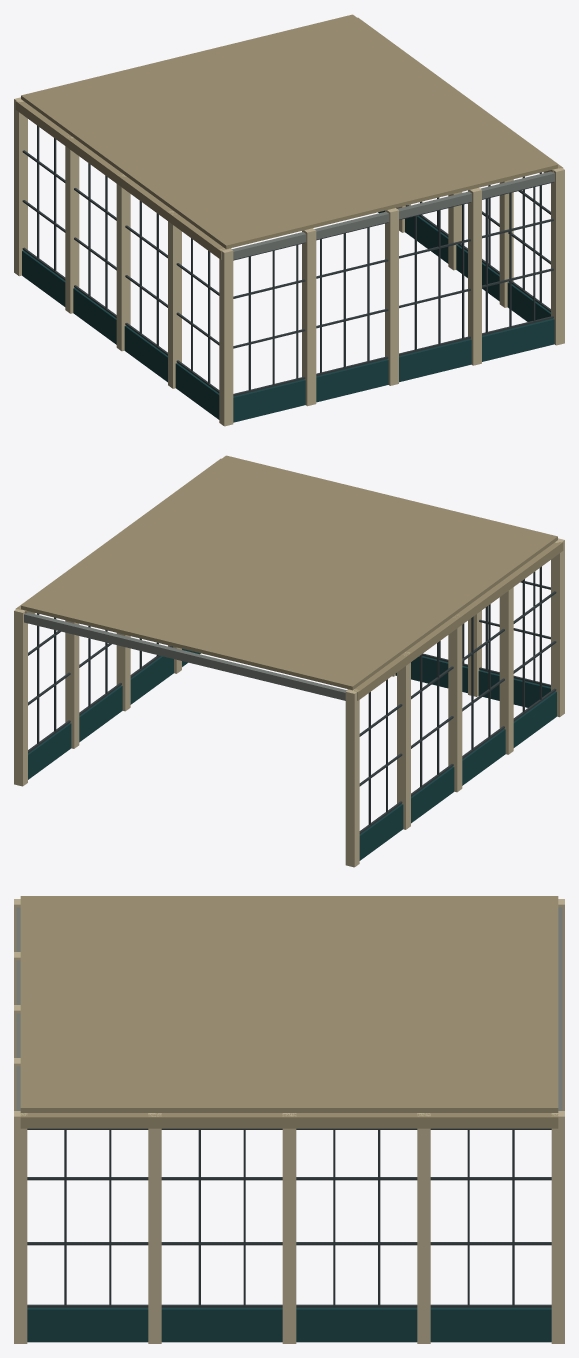
The model's file is hall_structure.obj.
3 renders of one model, top to bottom at view 1: azimuth 30°, elevation 25°; view 2: azimuth 150°, elevation 25°; view 3: azimuth 270°, elevation 25°, orthographic. The views are drawn at different scales.
Parts seen in each view (by area): view 1: ceiling, side_piers, rear_dado, side_dado, rear_piers, rear_mullions, side_window_mullions, side_header, ceiling_beams, rear_rails, side_window_rails; view 2: ceiling, side_piers, side_dado, side_window_mullions, ceiling_beams, side_header, side_window_rails, rear_dado, rear_piers, rear_mullions, rear_rails; view 3: ceiling, side_dado, side_piers, side_header, side_window_rails, side_window_mullions, ceiling_beams, rear_piers.
Part boxes in pixels (x1,y1,x2,y2): ceiling: (21,14,557,249); side_piers: (14,97,564,426); rear_dado: (233,318,554,422); side_dado: (22,207,550,419); rear_piers: (302,187,481,406); rear_mullions: (248,187,535,390); side_window_mullions: (37,125,541,383); side_header: (15,17,562,259); ceiling_beams: (232,171,554,259); rear_rails: (233,182,553,396); side_window_rails: (22,150,550,392); ceiling: (21,455,557,690); side_piers: (14,538,564,867); side_dado: (28,648,556,860); side_window_mullions: (37,566,541,824); ceiling_beams: (24,612,346,700); side_header: (16,458,563,700); side_window_rails: (28,591,556,833); rear_dado: (395,656,550,707); rear_piers: (392,610,481,696); rear_mullions: (439,571,535,681); rear_rails: (422,581,550,686); ceiling: (20,896,558,1112); side_dado: (27,1307,551,1342); side_piers: (14,899,564,1343); side_header: (20,1113,558,1128); side_window_rails: (27,1128,551,1307); side_window_mullions: (64,1130,514,1305); ceiling_beams: (16,907,562,1110); rear_piers: (14,952,20,1110).
Size of the model in its own units: 28.9 by 14.35 by 30.75.
